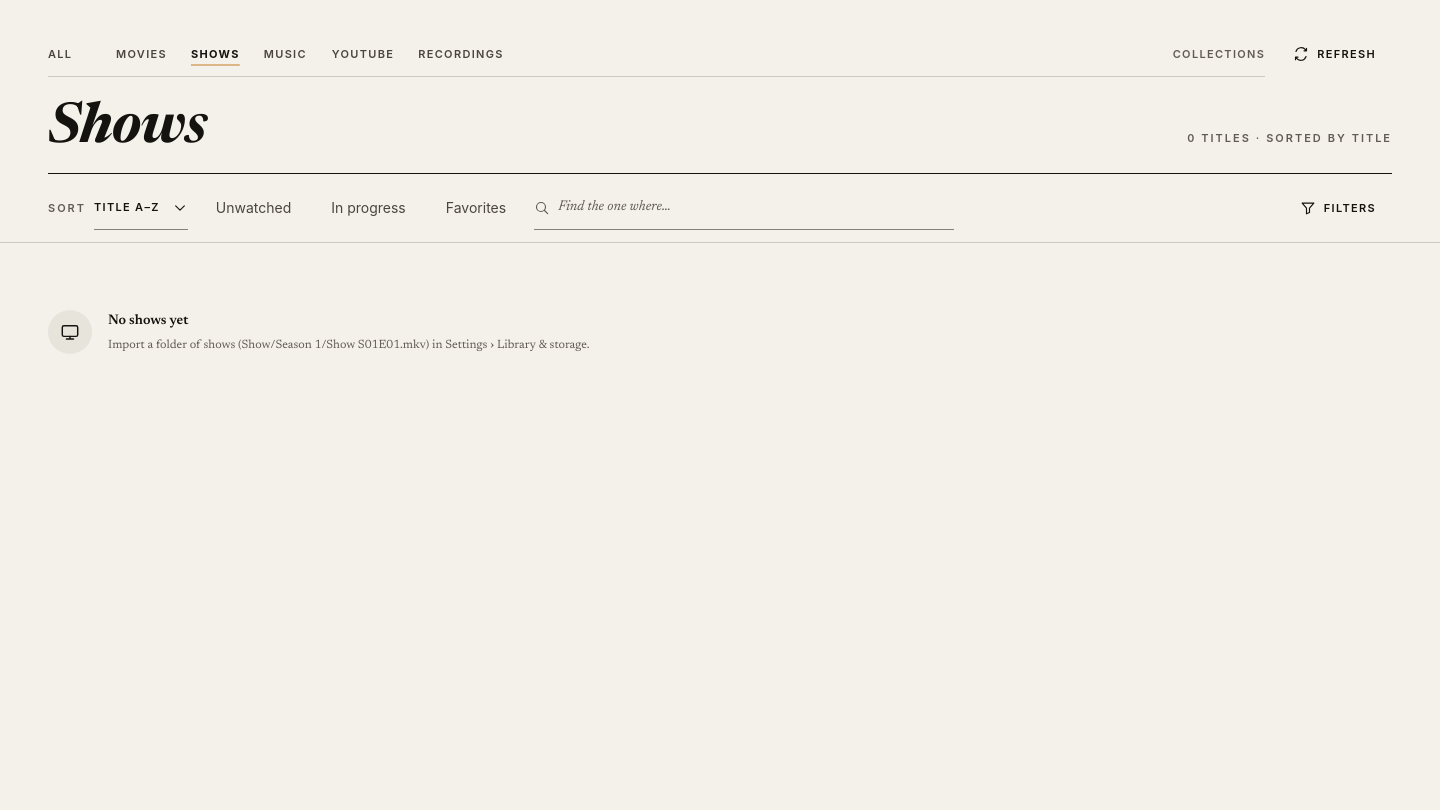
Test: Library lenses › refreshes the current lens and counts without scanning for a member
Step 1. Click the button "Refresh" → [1335, 54], box [1277,32,1392,76]
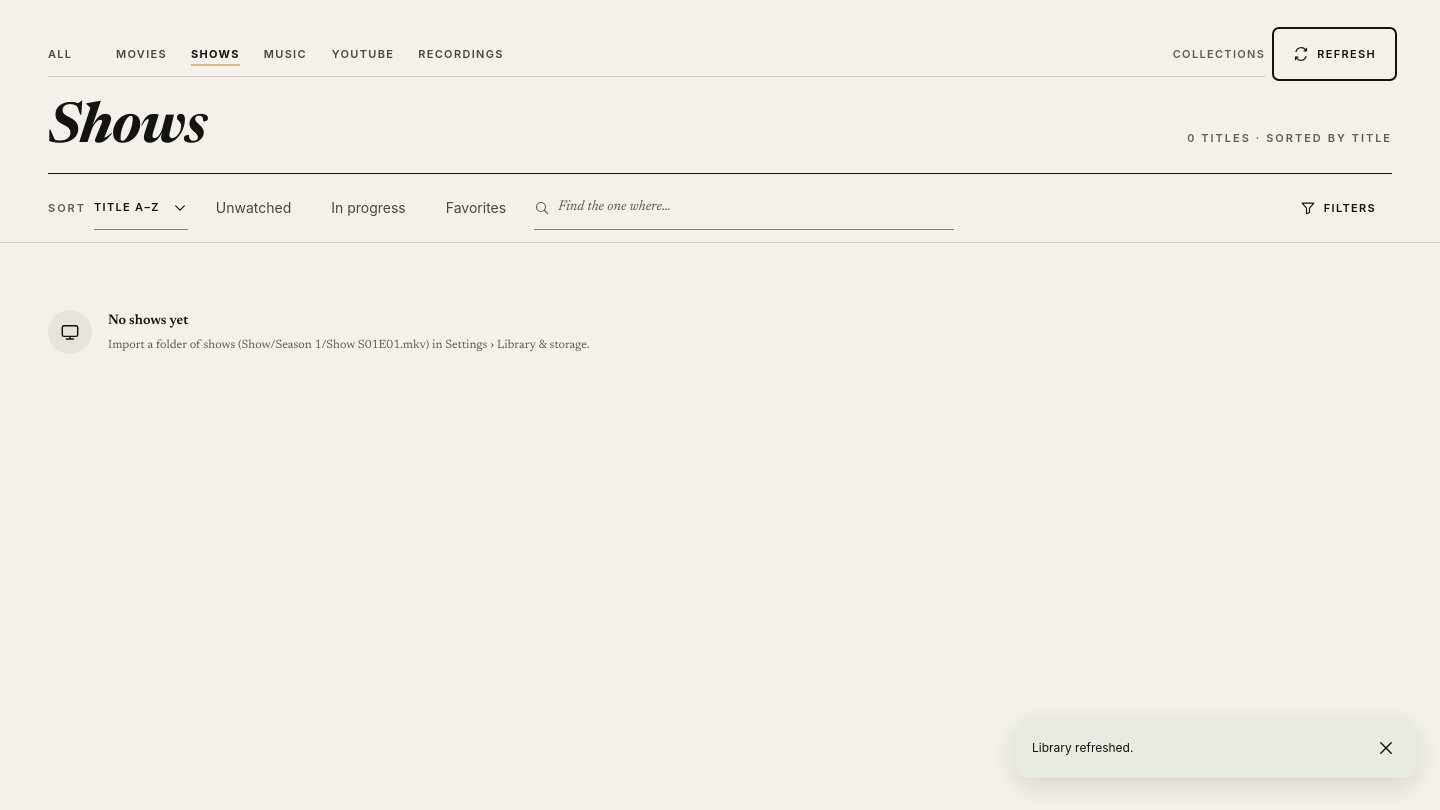
Expected: the text "Library refreshed." is shown, [1032,740,1133,755]
